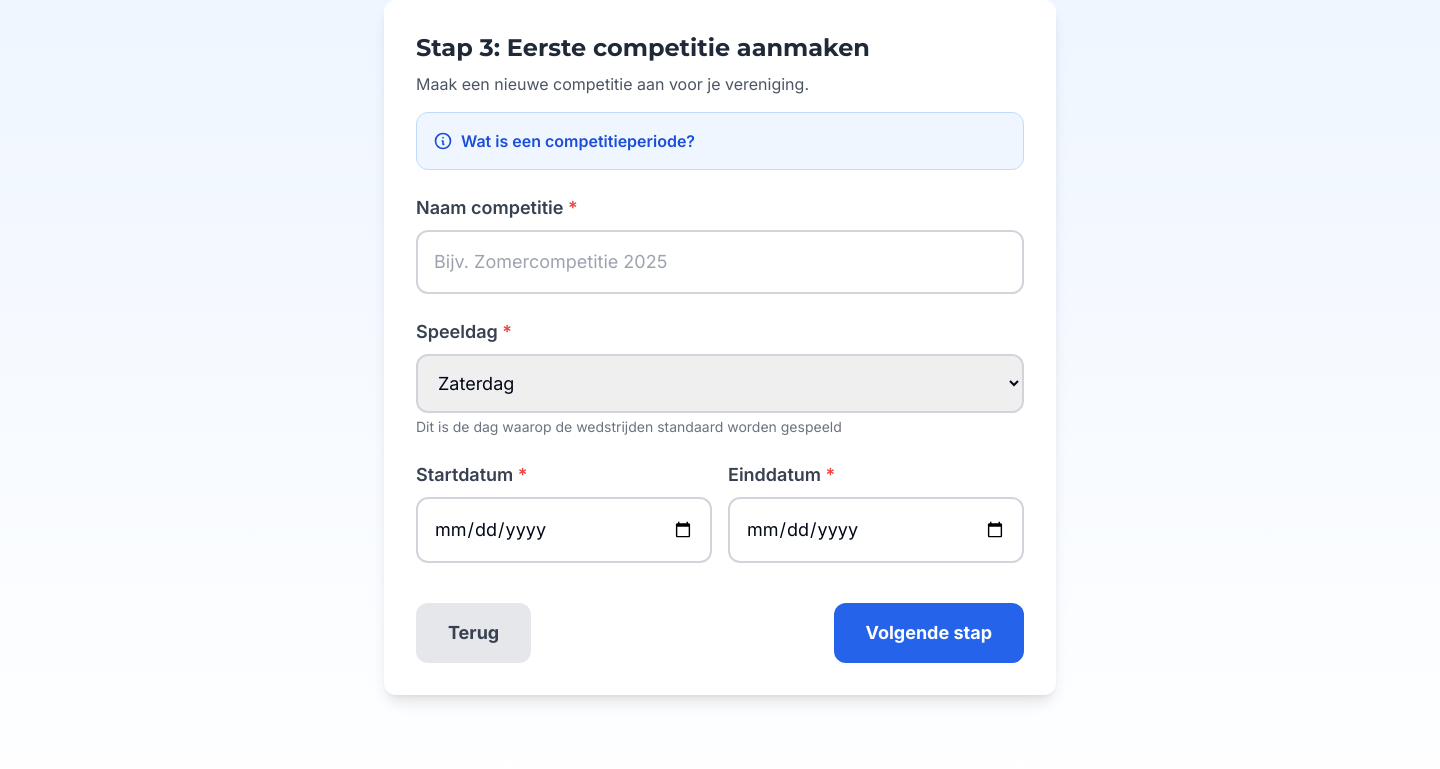
Test case: CompetitionStep › Help section › should hide help text when help button is clicked again
Step 1. Click the button "Wat is een competitieperiode?" → (564,141), box 433,129 -> 695,153
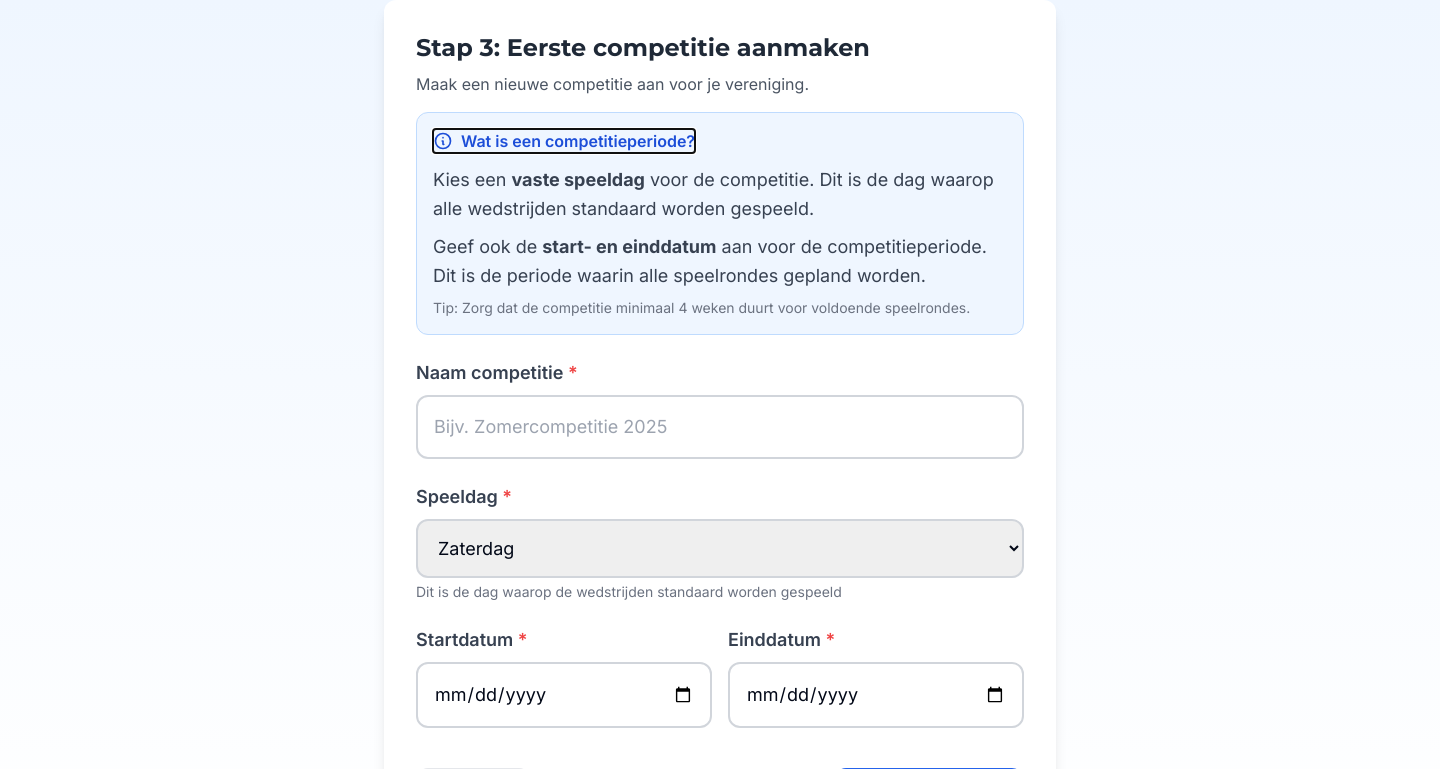
Step 2. Click the button "Wat is een competitieperiode?" → (564,141), box 433,129 -> 695,153
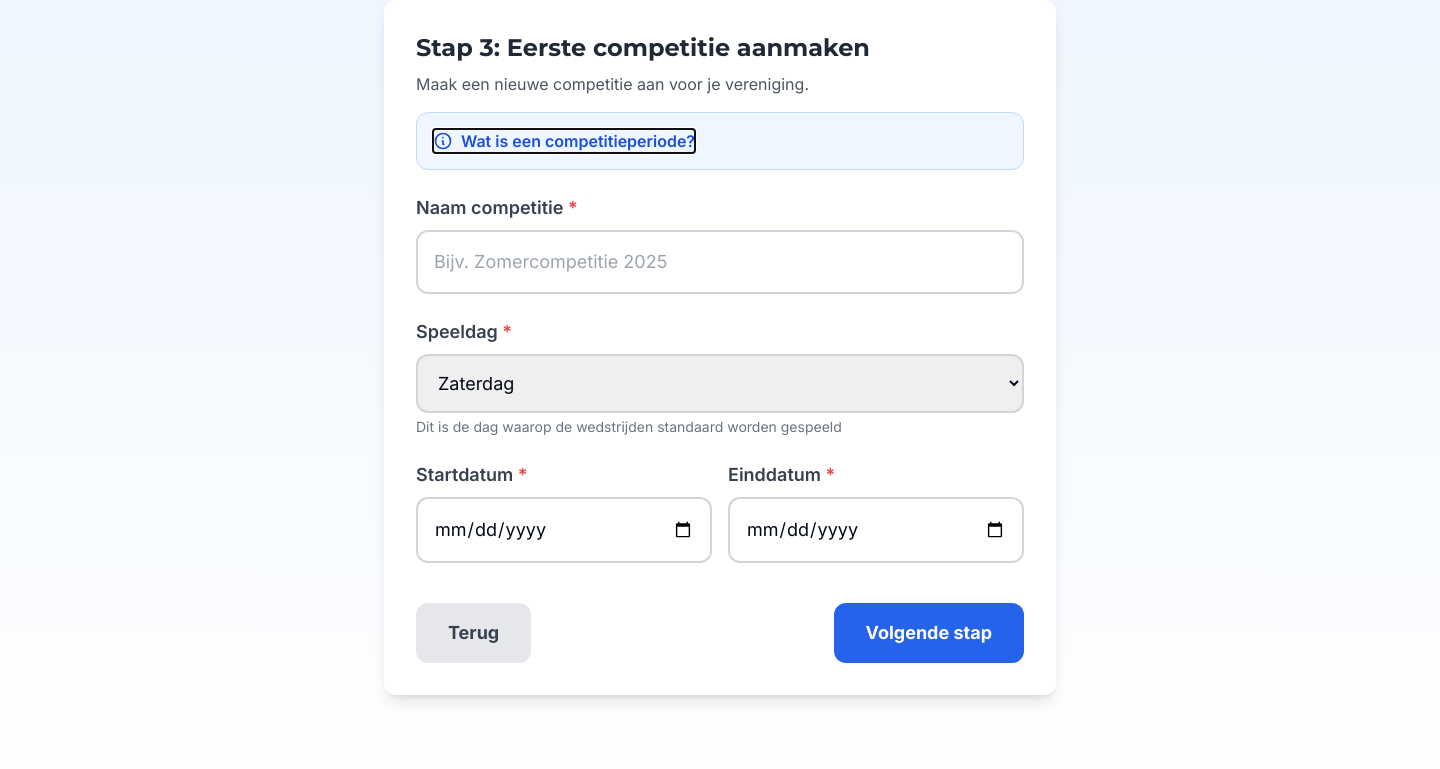
Expected: the text "vaste speeldag" is gone
